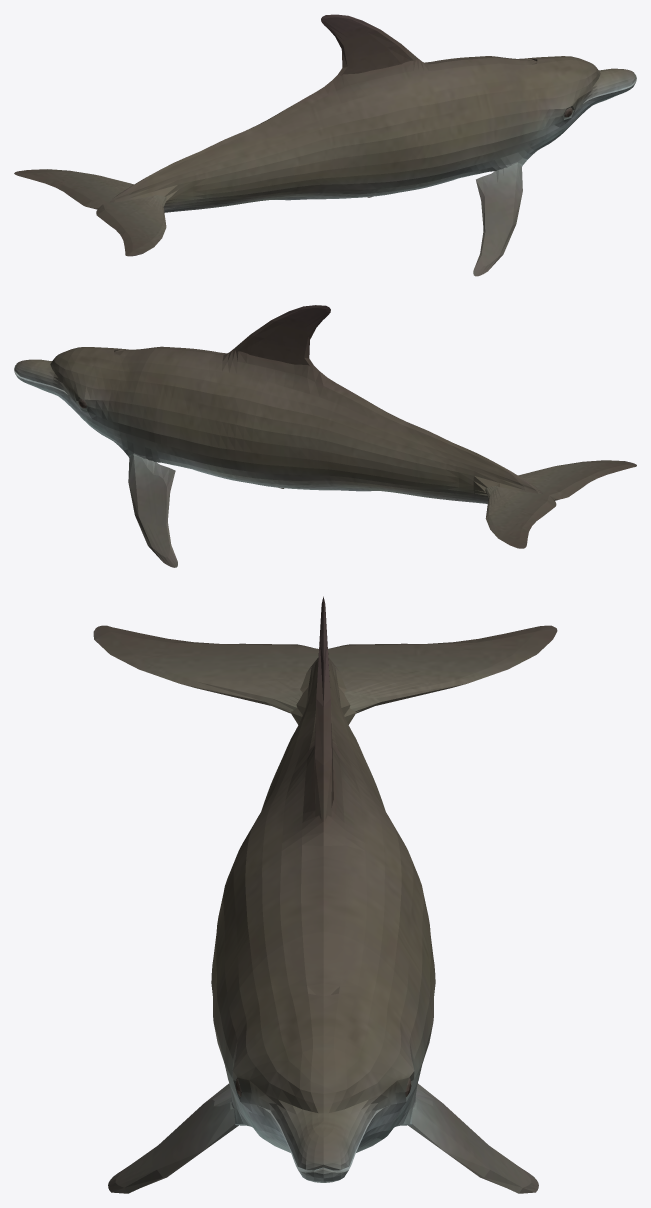
The model's file is dolphin.glb.
The picture shows the model from 3 angles, top to bottom: view 1: azimuth 30°, elevation 25°; view 2: azimuth 150°, elevation 25°; view 3: azimuth 270°, elevation 25°; orthographic projection. The views are drawn at different scales.
Parts seen in each view (by area): view 1: dolphin; view 2: dolphin; view 3: dolphin.
Boxes of the visible parts, <box> form: dolphin: <box>14,14,636,276</box>; dolphin: <box>14,305,636,567</box>; dolphin: <box>93,596,557,1193</box>.
Bounding box in the file's own units: 1 × 0.4158 × 0.3556.
1 material, 1 textured.
